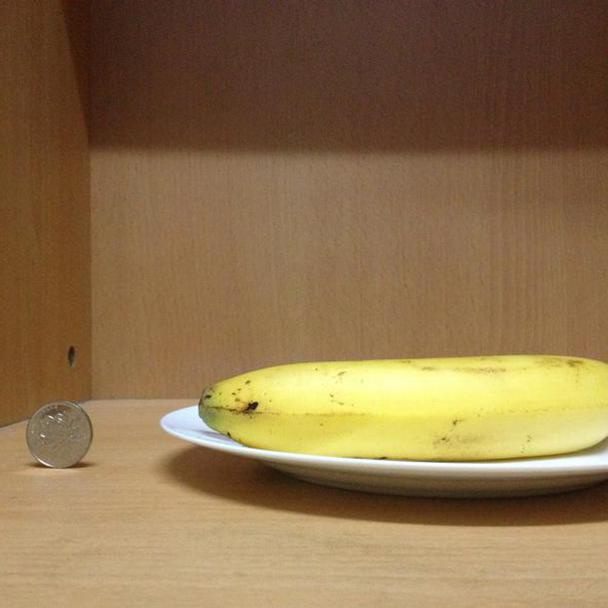banana: (195, 345, 608, 457)
